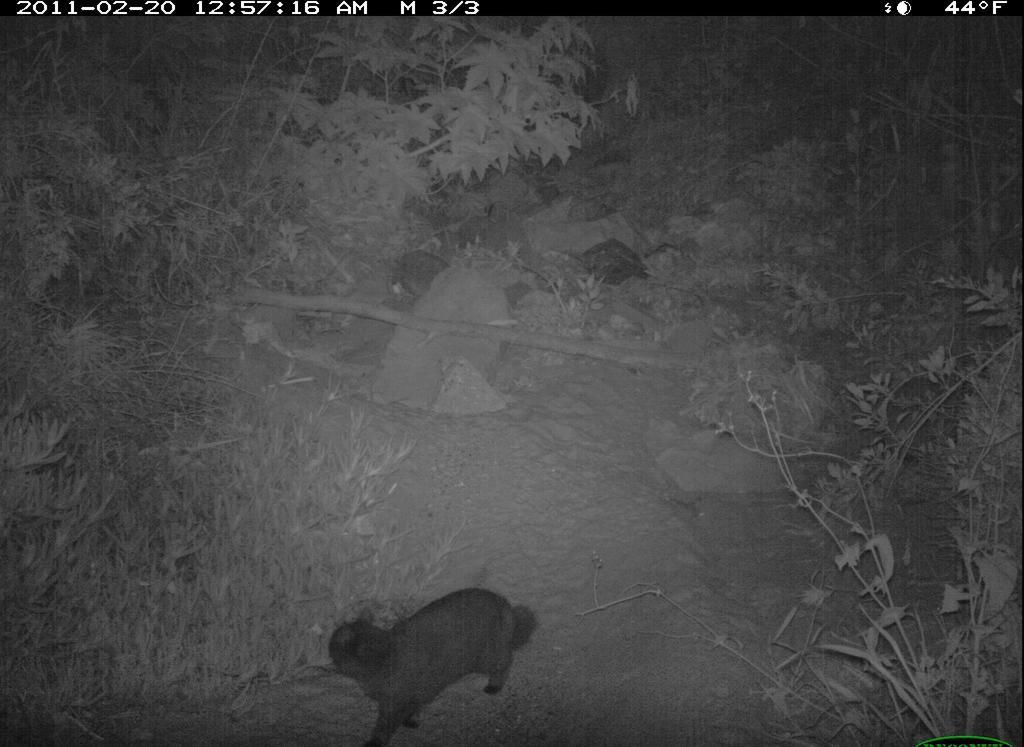cat: (317, 580, 551, 747)
